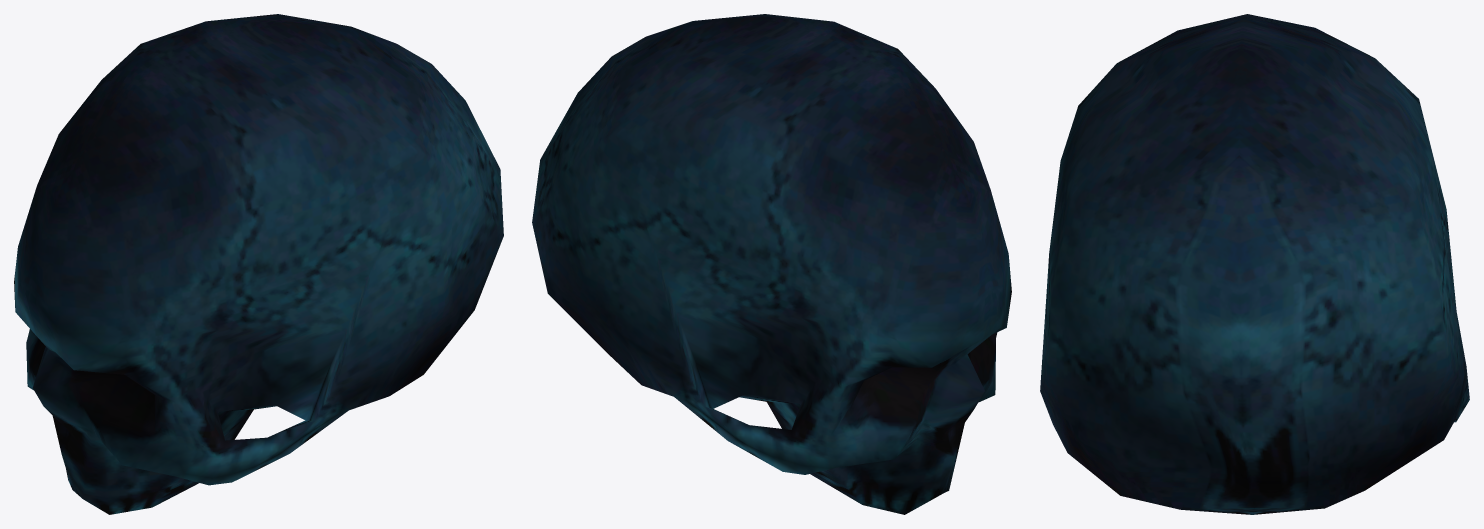
File: pt_glowing_skullhead_l1.fbx
3 renders of one model, left to right at view 1: azimuth 30°, elevation 25°; view 2: azimuth 150°, elevation 25°; view 3: azimuth 270°, elevation 25°, orthographic. The views are drawn at different scales.
Parts seen in each view (by area): view 1: mesh_node; view 2: mesh_node; view 3: mesh_node.
Boxes of the visible parts, x1,y1,x2,y2 form: mesh_node: (14,14,503,514); mesh_node: (532,14,1011,514); mesh_node: (1040,14,1469,514).
Bounding box in the file's own units: 0.3933 × 0.3633 × 0.2773.
